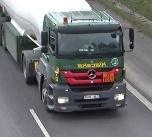Truck: (0, 0, 135, 113)
